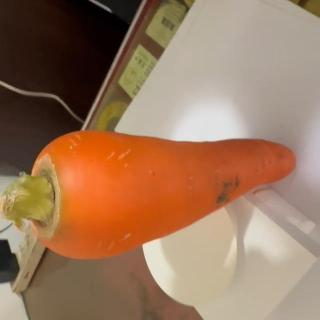carrot: (0, 127, 296, 260)
